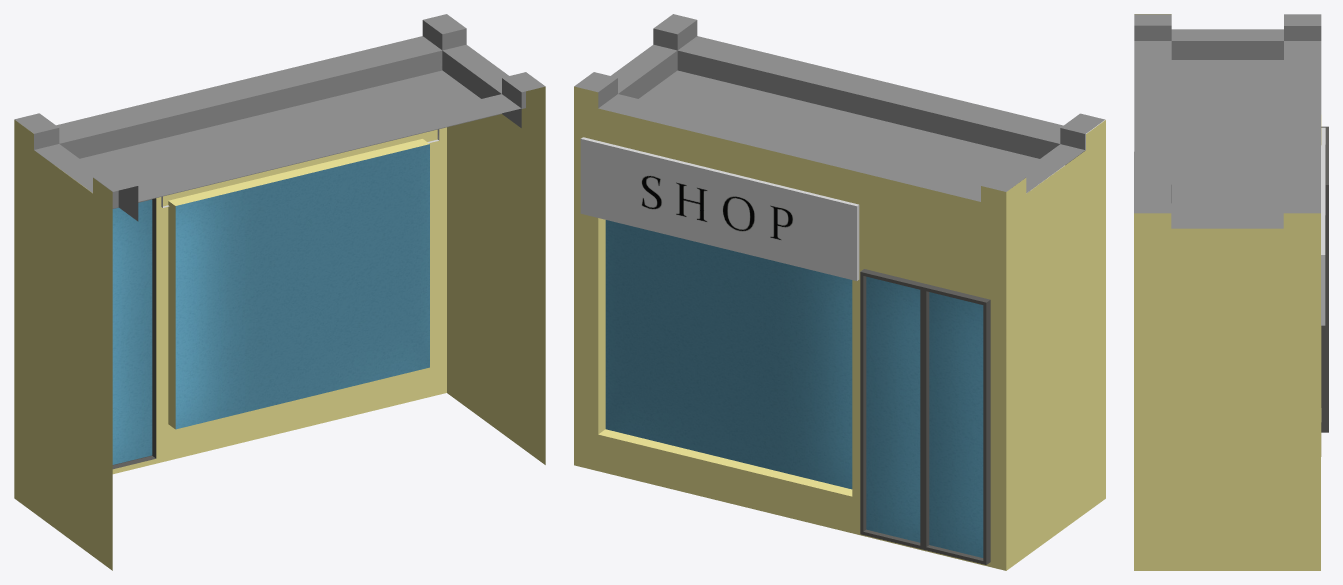
File: building_smallShop.fbx
3 views of the same model, side by side, from view 1: azimuth 30°, elevation 25°; view 2: azimuth 150°, elevation 25°; view 3: azimuth 270°, elevation 25° (orthographic). The views are drawn at different scales.
Visible parts, largest first — view 1: building_shophouse; view 2: building_shophouse; view 3: building_shophouse.
Part boxes in pixels (x1,y1,x2,y2): building_shophouse: [14, 14, 545, 570]; building_shophouse: [574, 14, 1105, 570]; building_shophouse: [1134, 14, 1328, 570].
Size of the model in its own units: 344 by 288 by 142.
Materials: 1 (1 with a texture image).
